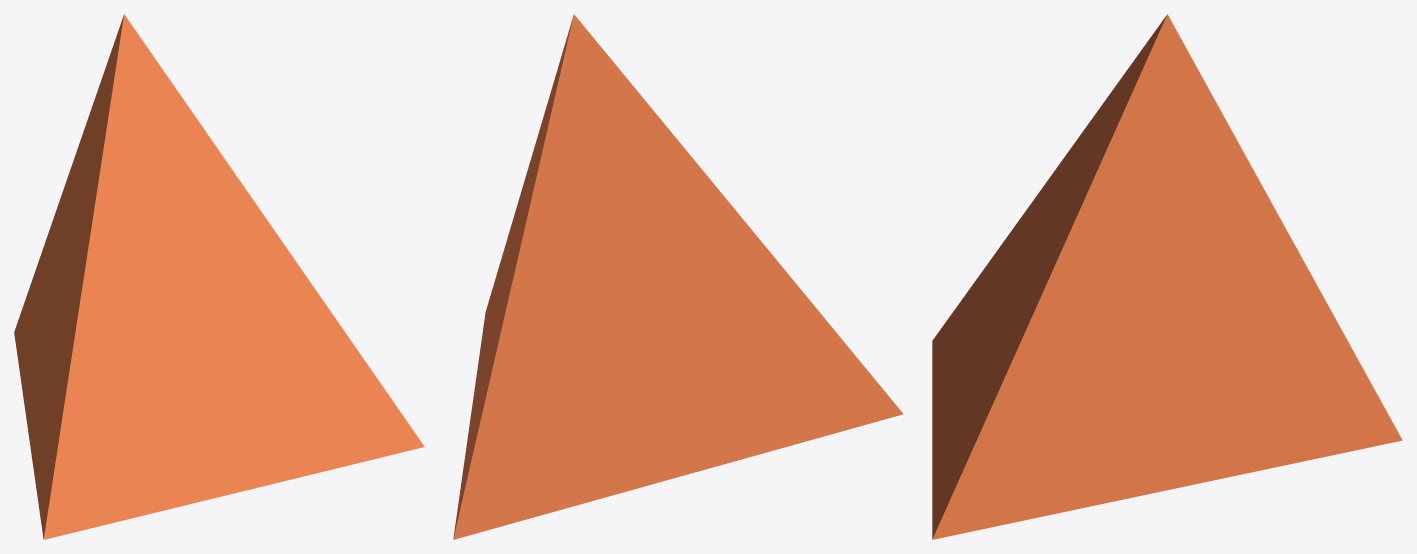
Rendered from model-fixture.glb.
The picture shows the model from 3 angles, left to right: view 1: azimuth 30°, elevation 25°; view 2: azimuth 150°, elevation 25°; view 3: azimuth 270°, elevation 25°; orthographic projection. The views are drawn at different scales.
Bounding box in the file's own units: 2 × 2 × 2.
